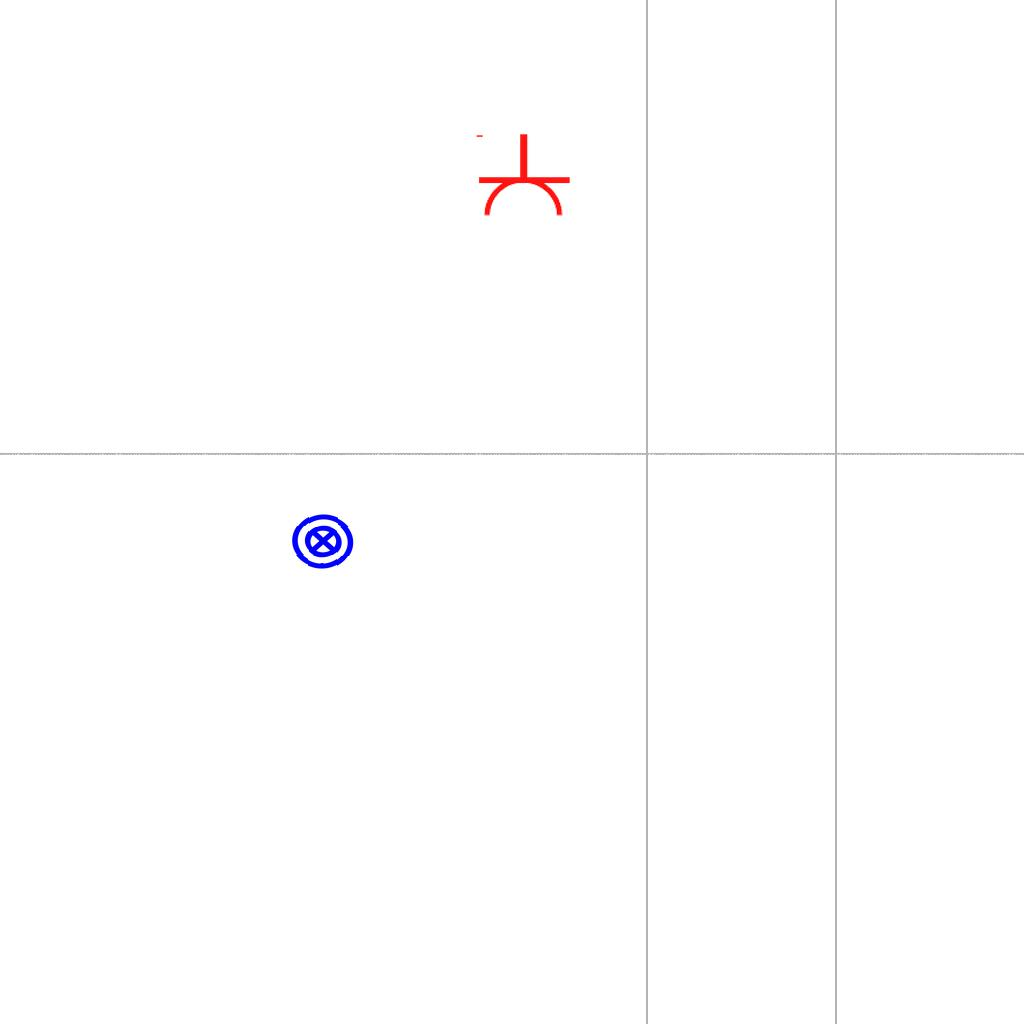Schukosteckdose_einfach: (472, 132, 572, 219)
Taster_beleuchtet: (288, 506, 358, 576)
